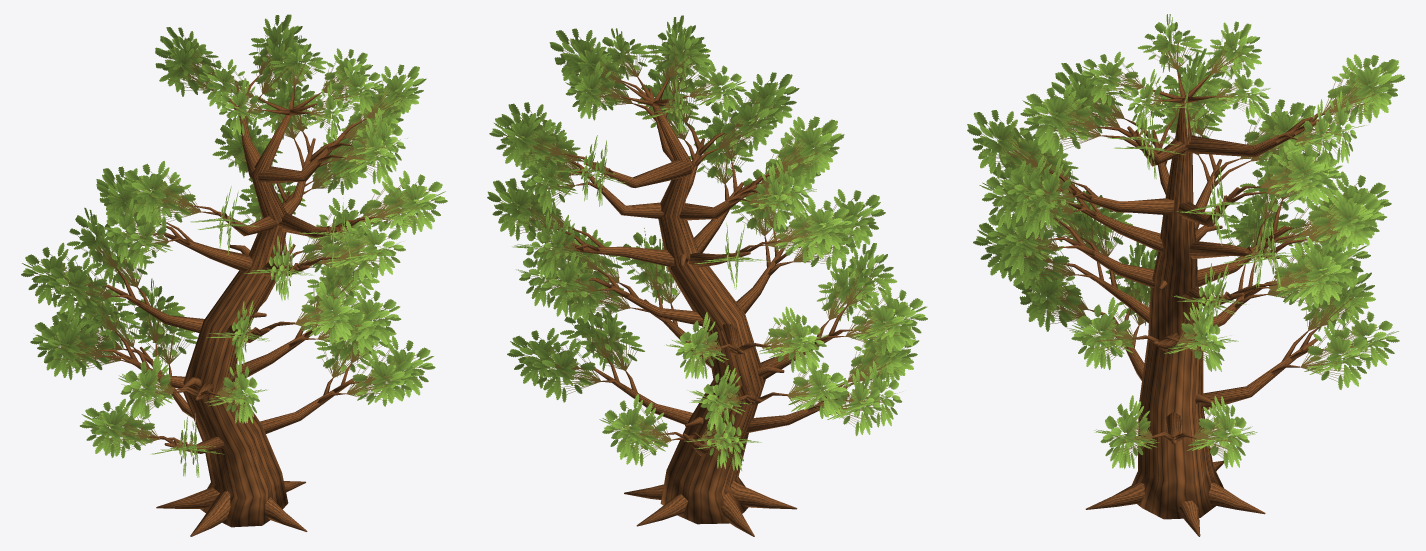
File: AncientOak_LOD1.glb
3 views of the same model, side by side, from view 1: azimuth 30°, elevation 25°; view 2: azimuth 150°, elevation 25°; view 3: azimuth 270°, elevation 25° (orthographic). The views are drawn at different scales.
Parts seen in each view (by area): view 1: SM_AncientOak_Foliage_LOD1, SM_AncientOak_Bark_LOD1; view 2: SM_AncientOak_Foliage_LOD1, SM_AncientOak_Bark_LOD1; view 3: SM_AncientOak_Foliage_LOD1, SM_AncientOak_Bark_LOD1.
Part boxes in pixels (box(x1,y1,x2,y2)): SM_AncientOak_Foliage_LOD1: box(21, 14, 447, 477); SM_AncientOak_Bark_LOD1: box(89, 74, 376, 536); SM_AncientOak_Foliage_LOD1: box(487, 15, 927, 470); SM_AncientOak_Bark_LOD1: box(557, 76, 857, 536); SM_AncientOak_Foliage_LOD1: box(967, 14, 1404, 468); SM_AncientOak_Bark_LOD1: box(1043, 69, 1330, 536).
Bounding box in the file's own units: 7.19 × 8.15 × 6.81.
2 materials, 2 textured.
